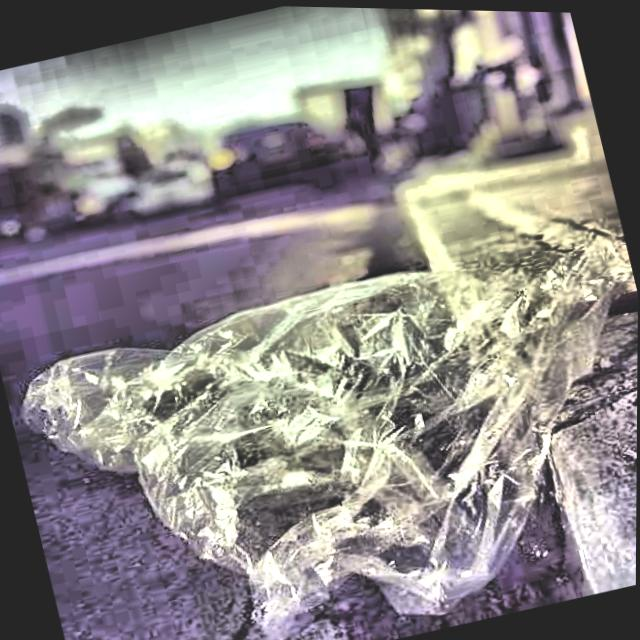Plastic: (4, 190, 639, 640)
